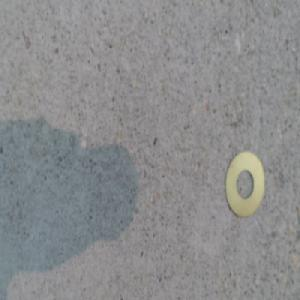Washer: (223, 149, 264, 219)
